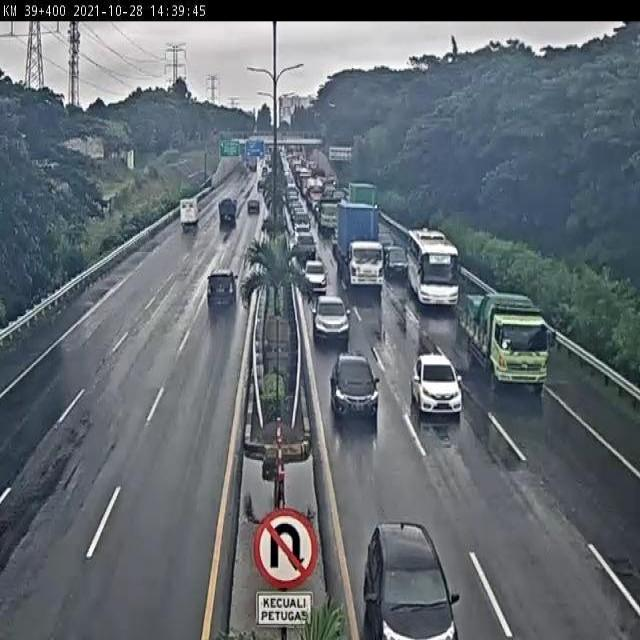ARABA: (365, 522, 454, 640), (411, 356, 461, 417), (329, 356, 376, 415), (309, 288, 346, 335), (205, 269, 239, 307), (383, 240, 408, 275), (303, 257, 326, 291), (295, 231, 317, 257), (290, 214, 312, 238)
KAMYONET: (459, 293, 550, 392), (178, 193, 201, 235), (214, 198, 239, 230)
OTOBUS: (406, 225, 460, 308)
TIR: (336, 198, 381, 282)
